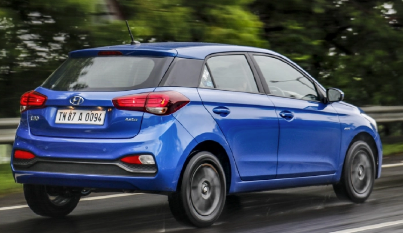car: (10, 42, 384, 229)
